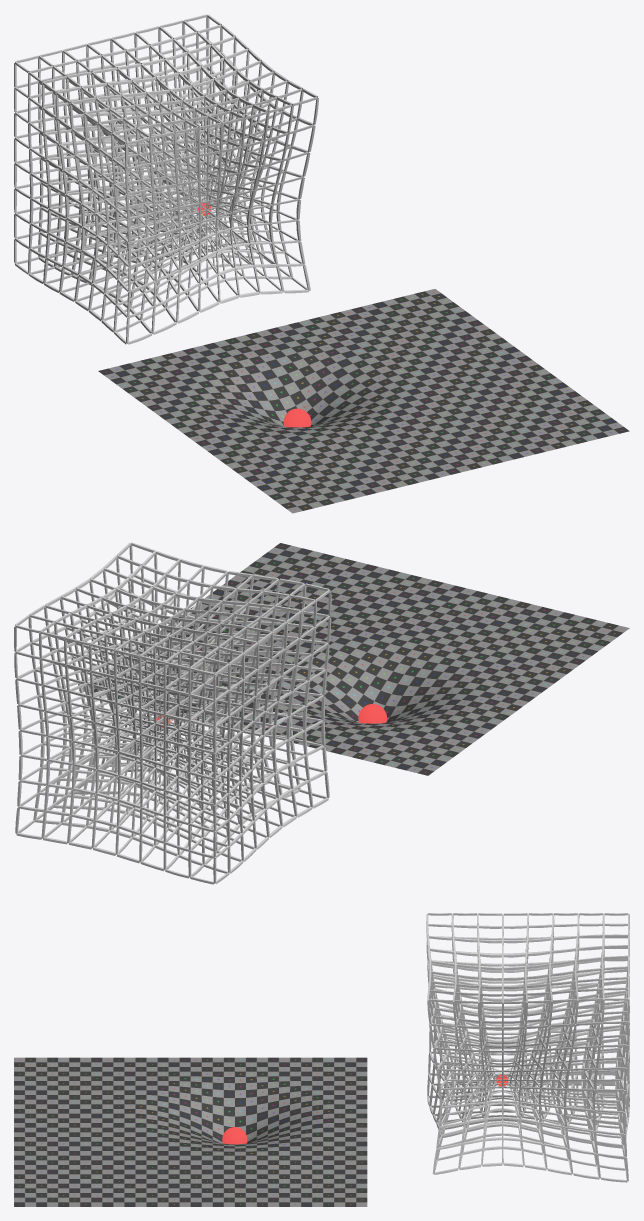
3 views of the same model, one above another, from view 1: azimuth 30°, elevation 25°; view 2: azimuth 150°, elevation 25°; view 3: azimuth 270°, elevation 25° (orthographic). The views are drawn at different scales.
Parts seen in each view (by area): view 1: Plane; view 2: Plane; view 3: Plane.
Part boxes in pixels (box(x1,y1,x2,y2)): Plane: box(14, 14, 629, 513); Plane: box(14, 542, 629, 884); Plane: box(14, 913, 629, 1206).
Bounding box in the file's own units: 1.7 × 1.11 × 2.96.
3 materials, 1 textured.
